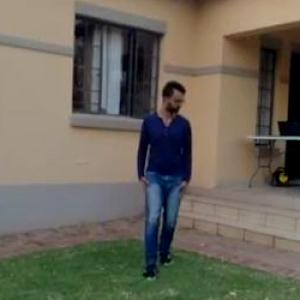follow: (138, 72, 198, 283)
